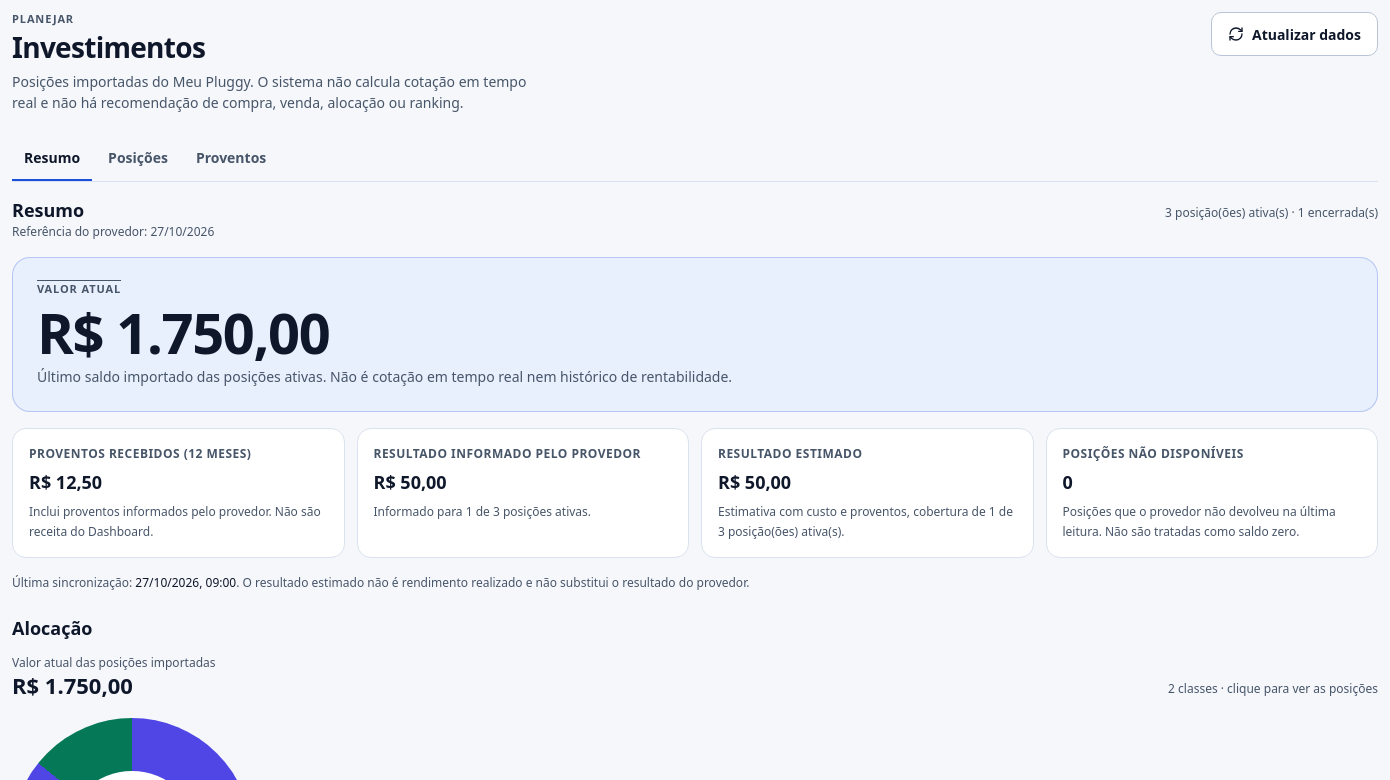
dashboard de investimentos › mostra estado vazio quando o provedor não informa proventos
The image size is (1390, 780).
Expected: the heading "Investimentos" is shown, [12, 28, 205, 66]
Click the tab "Proventos" at (231, 159), box [184, 137, 278, 181]
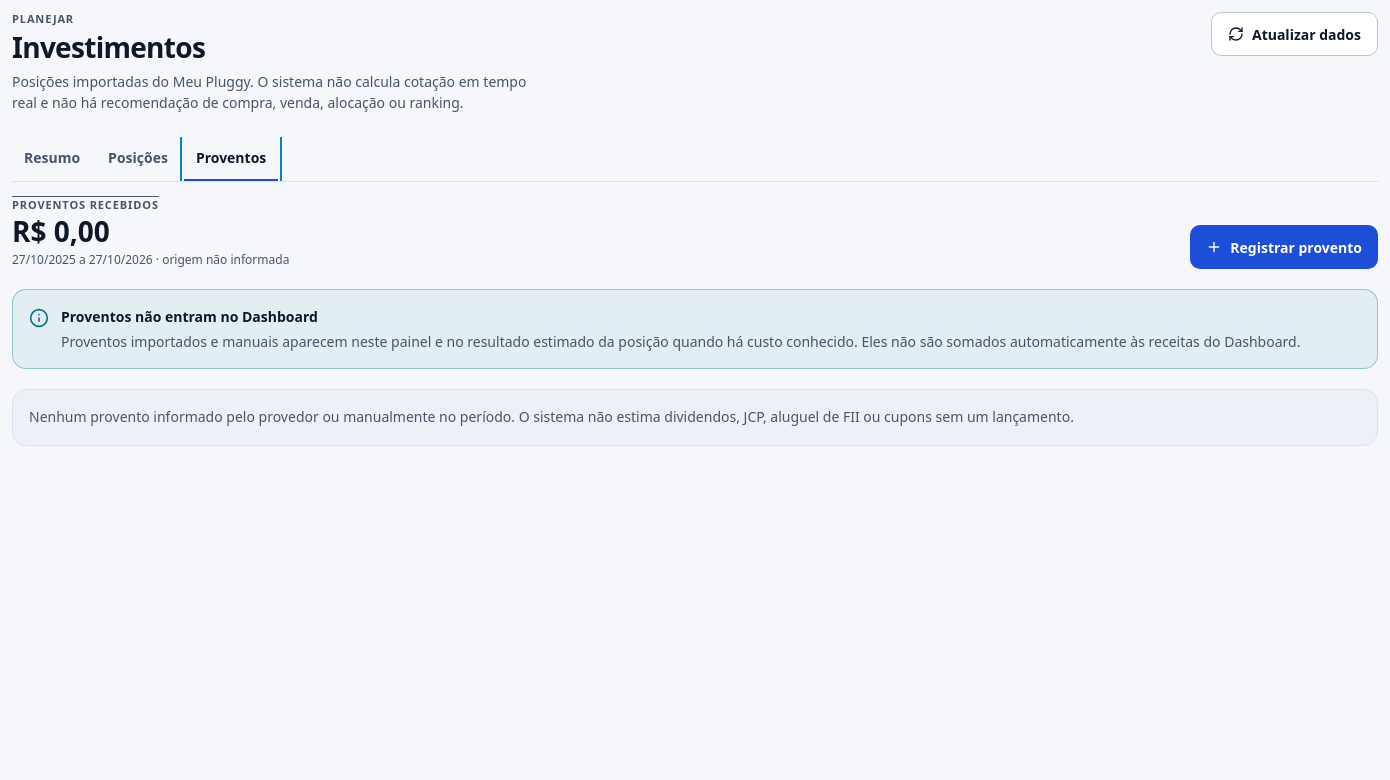
Now the text "Nenhum provento informado pelo provedor" is shown, box [29, 407, 1074, 426]
